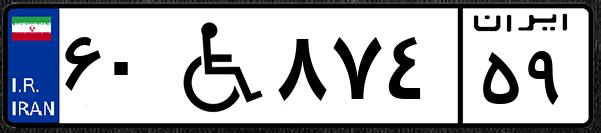0: (110, 28, 158, 98)
4: (385, 28, 445, 110)
5: (475, 38, 525, 113)
6: (57, 26, 110, 100)
7: (330, 28, 385, 110)
8: (270, 28, 330, 110)
9: (525, 38, 570, 115)
ژ (معلولین و جانبازان): (158, 12, 270, 120)
